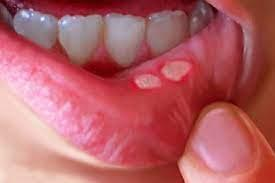Ulcer: (128, 60, 202, 92)
